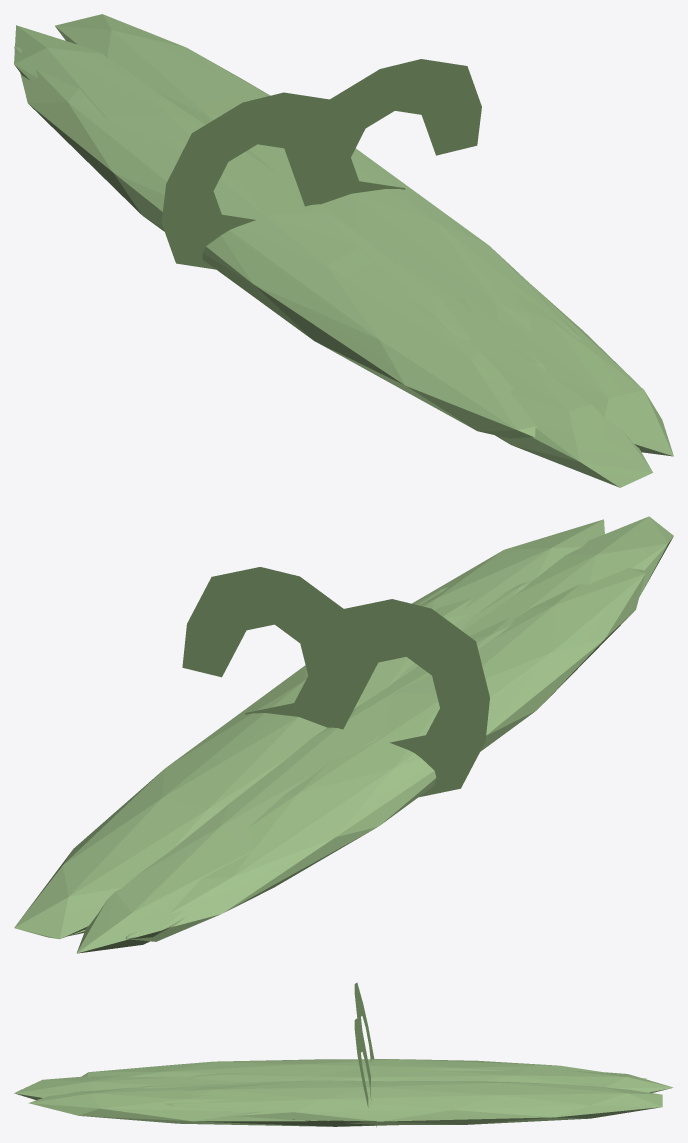
Rendered from pyrrosia-adnascens.glb.
3 renders of one model, top to bottom at view 1: azimuth 30°, elevation 25°; view 2: azimuth 150°, elevation 25°; view 3: azimuth 270°, elevation 25°, orthographic. The views are drawn at different scales.
Visible parts, largest first — view 1: frond3, frond0, frond4, fiddle-1, fiddle1, frond2, frond1, frond6; view 2: frond3, frond0, frond4, fiddle1, fiddle-1, frond2, frond1, frond6; view 3: frond0, frond1, frond4, frond3, frond2, fiddle1, fiddle-1, frond6.
Part boxes in pixels (bbox=[...]): frond3: bbox=[14, 46, 536, 438]; frond0: bbox=[55, 14, 580, 339]; frond4: bbox=[14, 25, 470, 339]; fiddle-1: bbox=[161, 92, 339, 269]; fiddle1: bbox=[299, 59, 481, 206]; frond2: bbox=[443, 301, 652, 487]; frond1: bbox=[456, 271, 673, 456]; frond6: bbox=[393, 260, 545, 371]; frond3: bbox=[126, 568, 645, 941]; frond0: bbox=[14, 587, 473, 939]; frond4: bbox=[76, 617, 514, 953]; fiddle1: bbox=[182, 567, 358, 729]; fiddle-1: bbox=[320, 599, 489, 797]; frond2: bbox=[463, 516, 673, 636]; frond1: bbox=[412, 519, 604, 628]; frond6: bbox=[68, 581, 529, 936]; frond0: bbox=[165, 1080, 662, 1125]; frond1: bbox=[28, 1084, 398, 1126]; frond4: bbox=[189, 1066, 673, 1092]; frond3: bbox=[82, 1059, 646, 1079]; frond2: bbox=[14, 1075, 235, 1100]; fiddle1: bbox=[354, 1018, 376, 1127]; fiddle-1: bbox=[354, 982, 374, 1071]; frond6: bbox=[139, 1081, 291, 1088].
Bounding box in the file's own units: 0.184 × 0.1061 × 0.6226.
